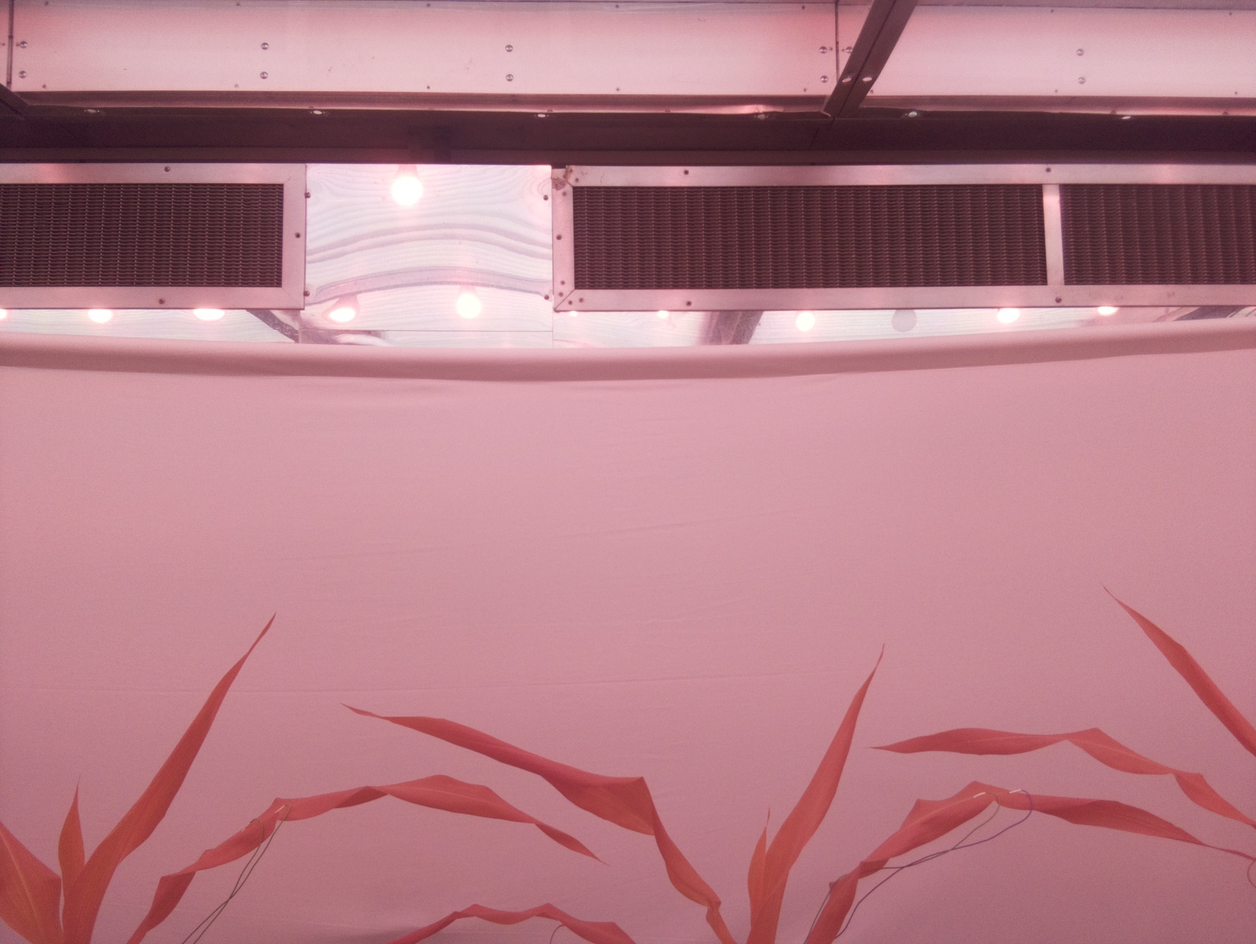maize: (340, 639, 1256, 944), (0, 611, 611, 944), (869, 582, 1256, 833)
